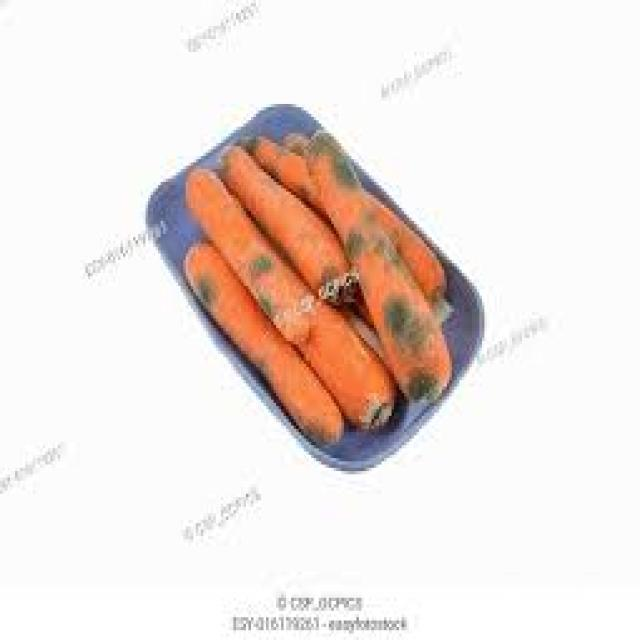Stale_Carrot: (185, 133, 447, 441)
